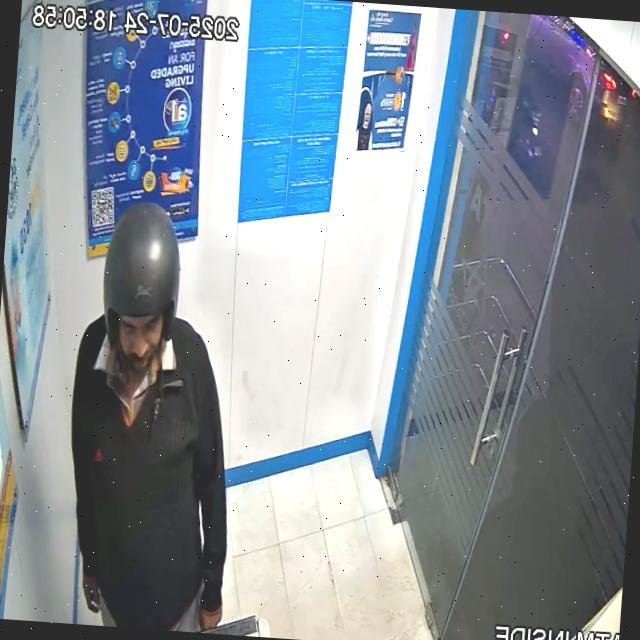helmet: (104, 202, 180, 374)
